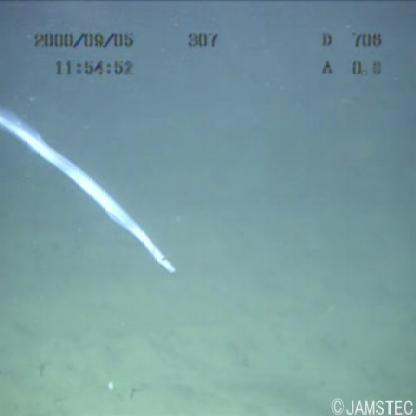Bio: (1, 100, 181, 281)
